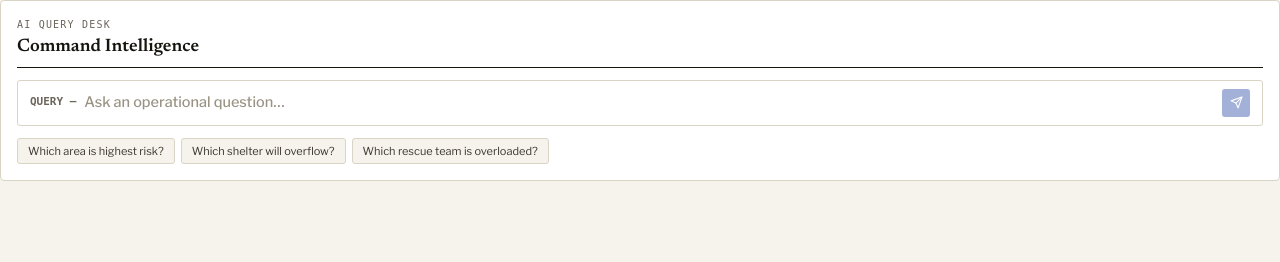
Scenario: CommandPanel › shows a loading label while the mutation is pending
Type "wait" into the field with placeholder "Ask an operational question…".
click(649, 102); type("wait")  # box top-left (84, 92), bottom-right (1214, 113)
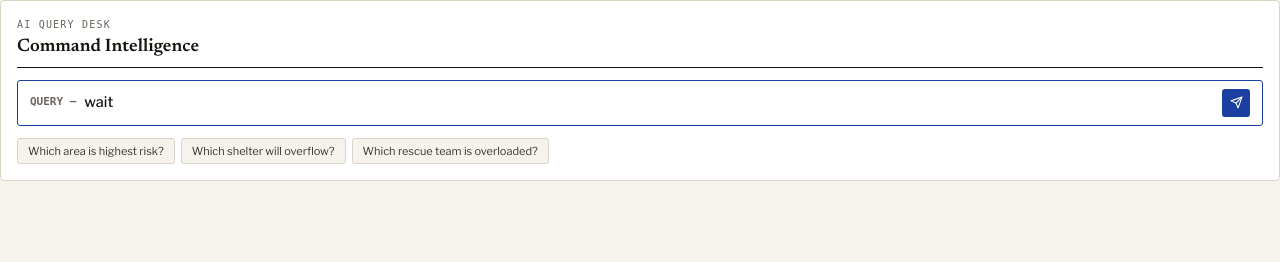
Click the button named "Ask".
click(1236, 102)  # box top-left (1222, 88), bottom-right (1250, 116)
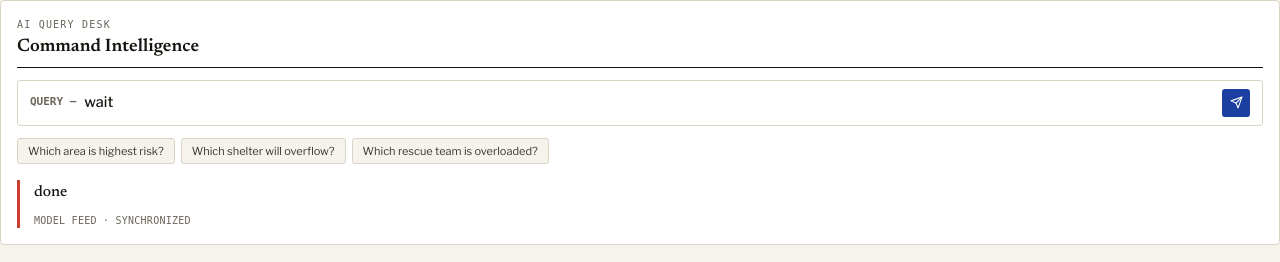
Now the text "done" is shown, box top-left (34, 185), bottom-right (67, 200)
